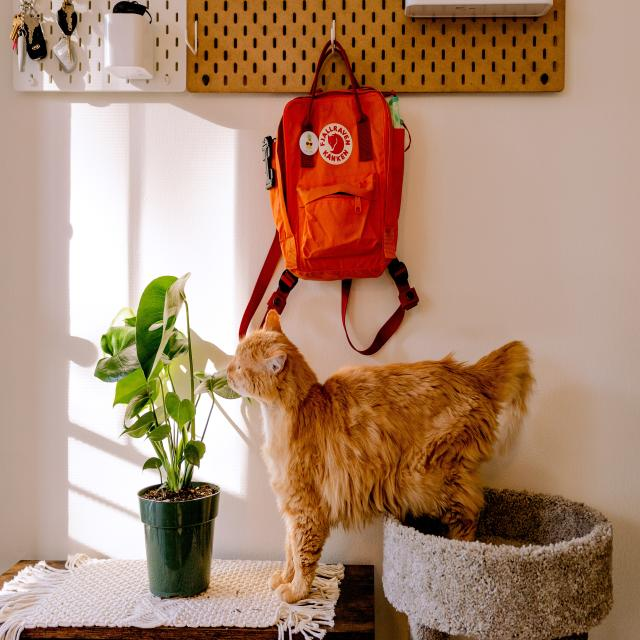backpack: (233, 43, 417, 356)
